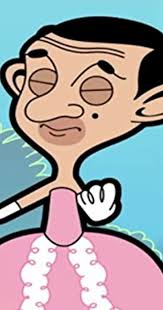mrbean: (1, 15, 163, 248)
